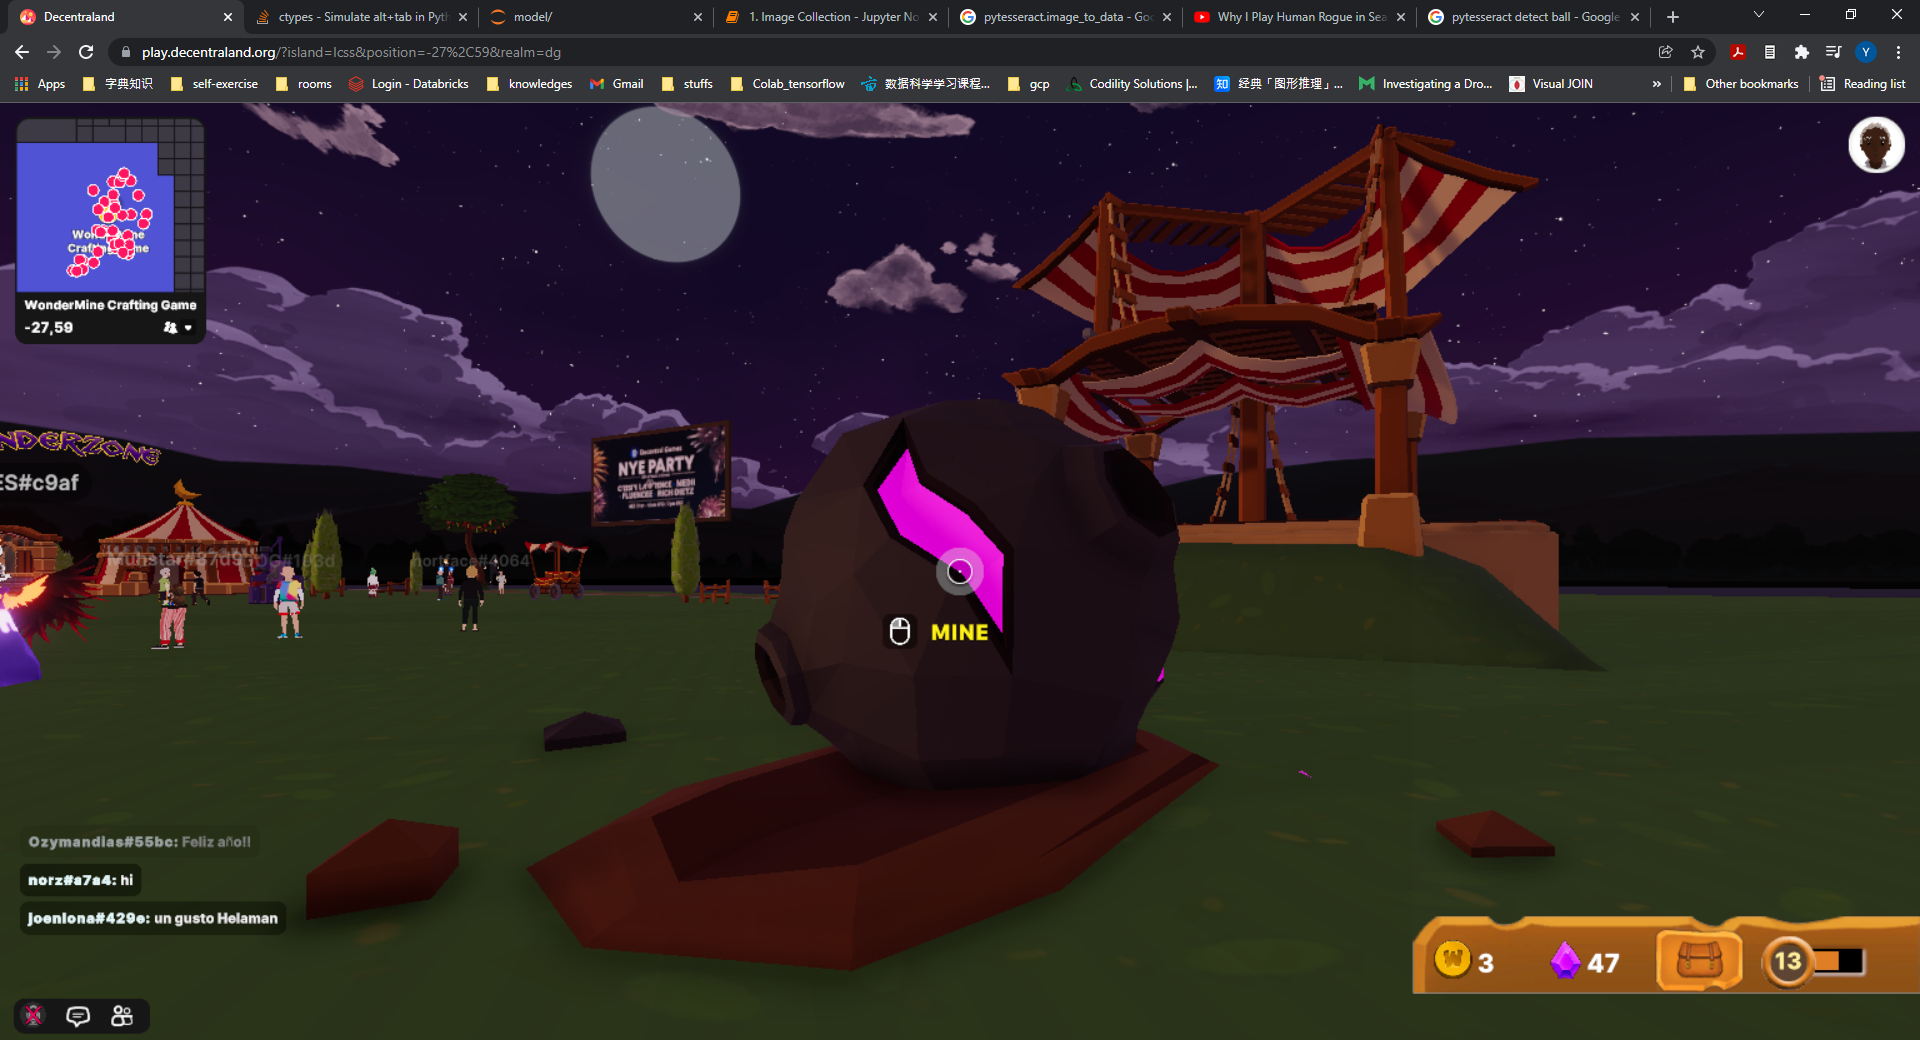black_ball: (741, 397, 1251, 786)
